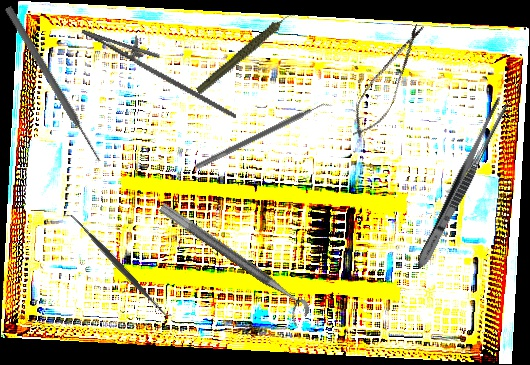Dressing Forceps: (411, 94, 511, 274)
Fixation Ring: (149, 201, 314, 329)
Handpiece: (184, 11, 309, 96)
Micro Scissor: (342, 16, 434, 145)
Needle Holder: (72, 15, 251, 120)
Pusher: (2, 4, 105, 165)
Spatula Surgical: (61, 205, 175, 325), (194, 96, 334, 176)
